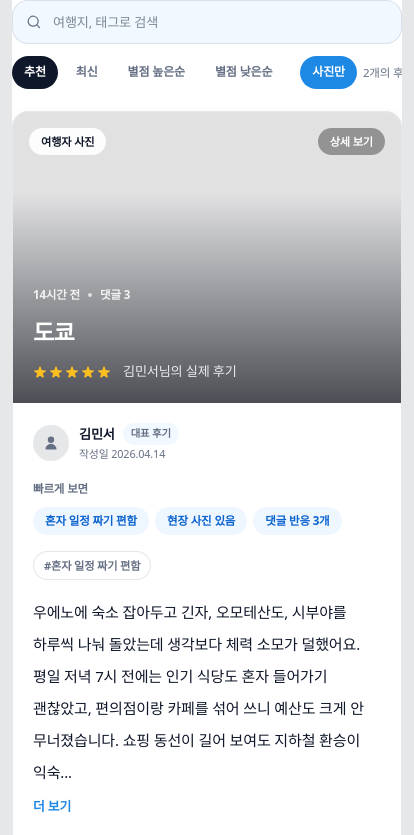
CommunityExperience › supports latest sorting and showing posts without photos
Check: the heading "도쿄" is shown, box [33,316,74,348]
What coordinates should you click on to do the following:
click the button "최신"
I would click on:
 (87, 72)
Its box is [64,56,110,89].
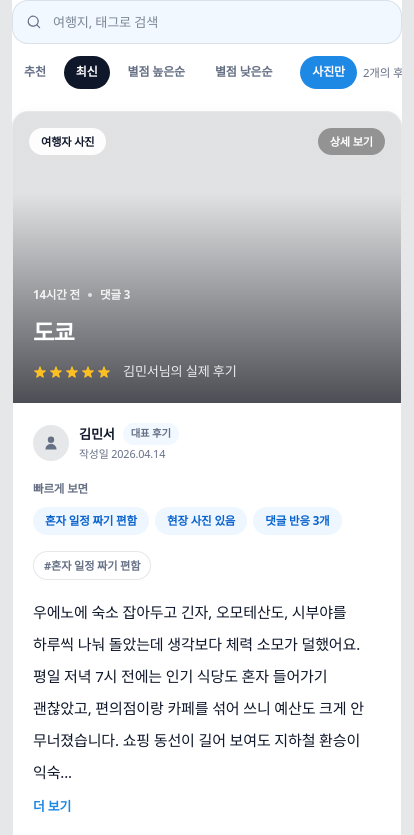
What coordinates should you click on to do the following:
click the button "사진만"
I would click on:
 (329, 72)
Its box is [300,56,357,89].
(page scrolled)
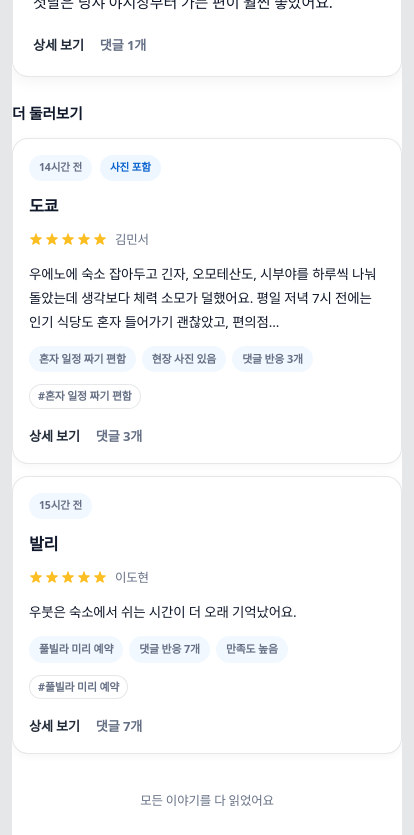
Check: the heading "발리" is shown, box [29,533,58,555]
